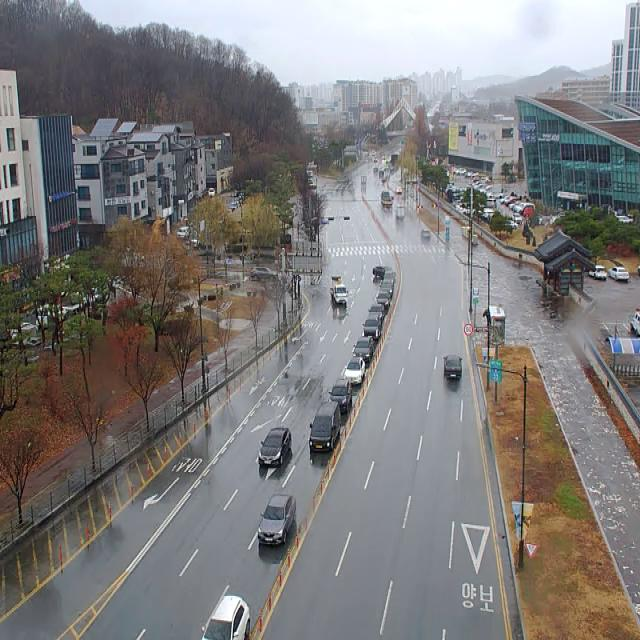Car: (201, 595, 250, 640), (258, 495, 296, 545), (259, 428, 291, 467), (328, 379, 352, 413), (344, 358, 365, 386), (352, 336, 373, 362), (443, 355, 463, 381), (362, 314, 381, 340), (251, 267, 278, 280), (368, 304, 384, 324), (608, 267, 629, 281), (588, 266, 607, 280), (376, 291, 390, 309), (373, 266, 392, 278), (380, 282, 393, 296), (382, 272, 396, 283), (177, 226, 189, 238), (513, 213, 522, 224), (421, 229, 430, 239), (209, 187, 215, 197), (361, 176, 367, 184), (396, 187, 402, 194), (638, 264, 640, 276)
Truck: (309, 401, 341, 452), (330, 276, 348, 304), (630, 309, 640, 336), (381, 190, 394, 208)
